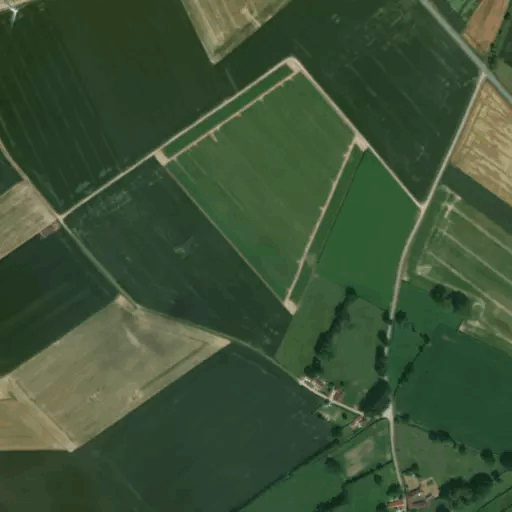wt: (4, 2, 32, 30)
